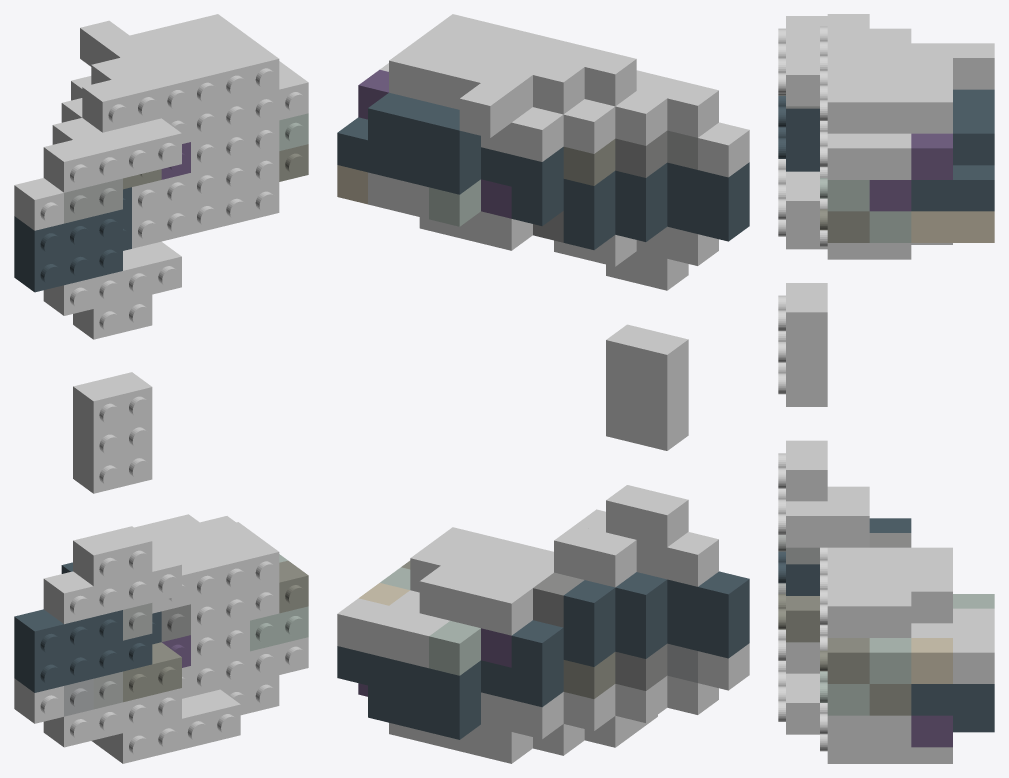
The model's file is full.glb.
3 views of the same model, side by side, from view 1: azimuth 30°, elevation 25°; view 2: azimuth 150°, elevation 25°; view 3: azimuth 270°, elevation 25° (orthographic). The views are drawn at different scales.
Parts seen in each view (by area): view 1: world; view 2: world; view 3: world.
Boxes of the visible parts, x1,y1,x2,y2 form: world: [14, 14, 308, 763]; world: [337, 14, 749, 763]; world: [778, 14, 994, 763].
Bounding box in the file's own units: 80 × 168 × 49.8.
